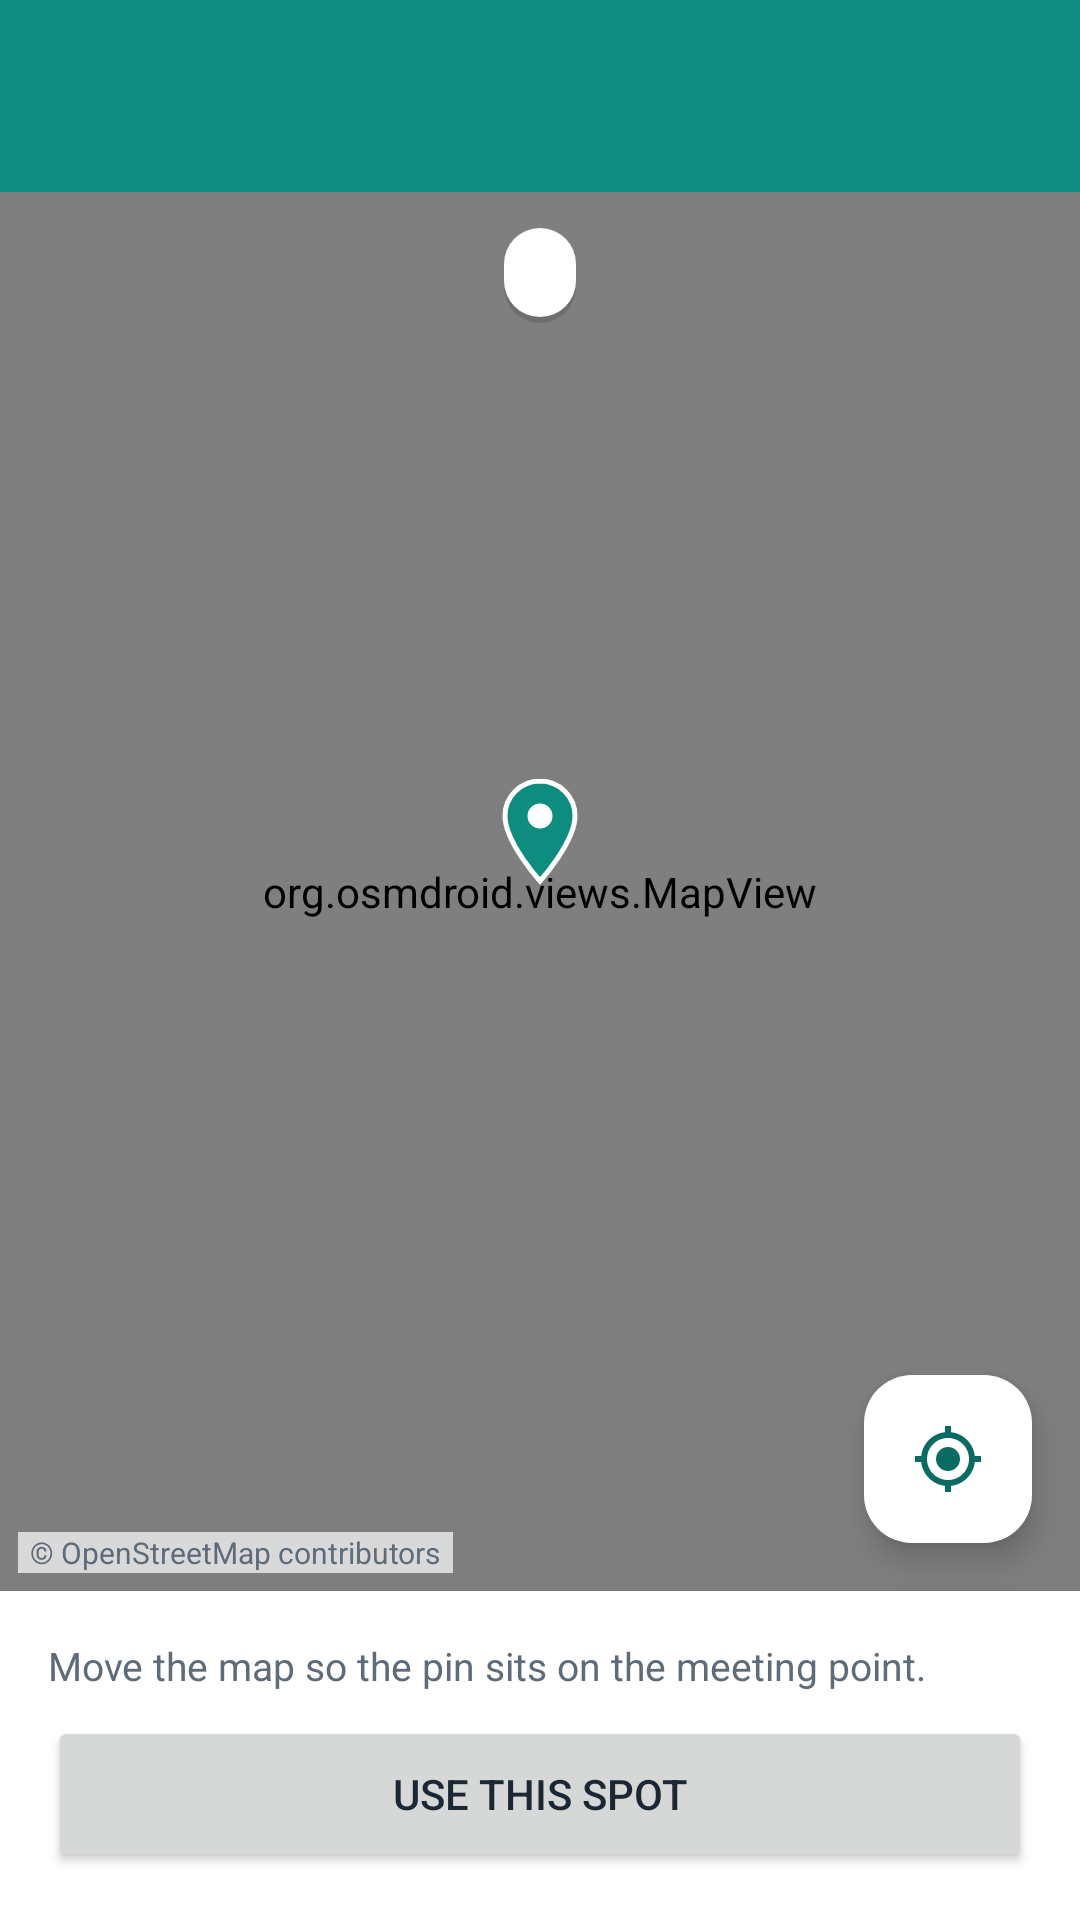

Icon click points for this 1080×1920 phone screenshot, format (x=x, y=y):
My location: (x=948, y=1459)
